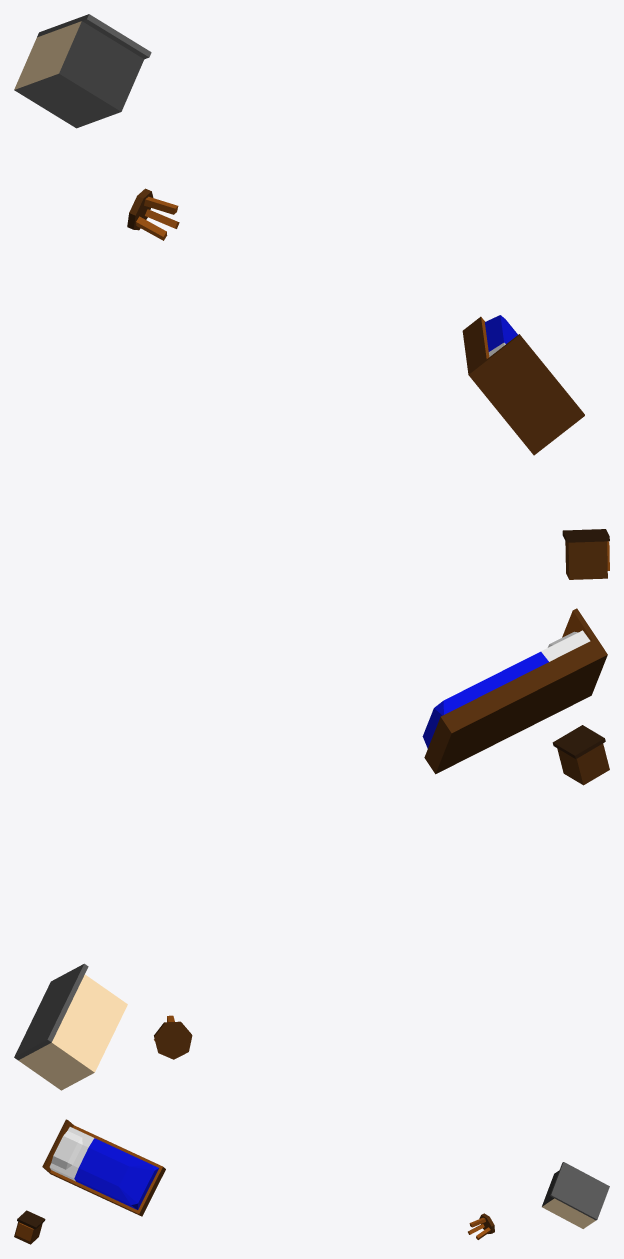
File: threeJsScenePotatoPremiumFloating.glb
The picture shows the model from 3 angles, top to bottom: view 1: azimuth 30°, elevation 25°; view 2: azimuth 150°, elevation 25°; view 3: azimuth 270°, elevation 25°; orthographic projection. The views are drawn at different scales.
Parts seen in each view (by area): view 1: Stove, Bed Single.001, Side Table, Stool.005; view 2: Bed Single.001, Stove, Side Table, Stool.005; view 3: Bed Single.001, Stove, Side Table, Stool.005.
Part boxes in pixels (x1,y1,x2,y2): Stove: (14, 14, 151, 128); Bed Single.001: (462, 315, 584, 455); Side Table: (562, 529, 609, 579); Stool.005: (127, 188, 179, 240); Bed Single.001: (422, 608, 607, 774); Stove: (14, 963, 127, 1090); Side Table: (552, 725, 609, 785); Stool.005: (154, 1015, 192, 1059); Bed Single.001: (42, 1119, 165, 1216); Stove: (542, 1162, 609, 1228); Side Table: (14, 1210, 45, 1244); Stool.005: (468, 1213, 494, 1239).
Bounding box in the file's own units: 6.97 × 9.64 × 46.04.
